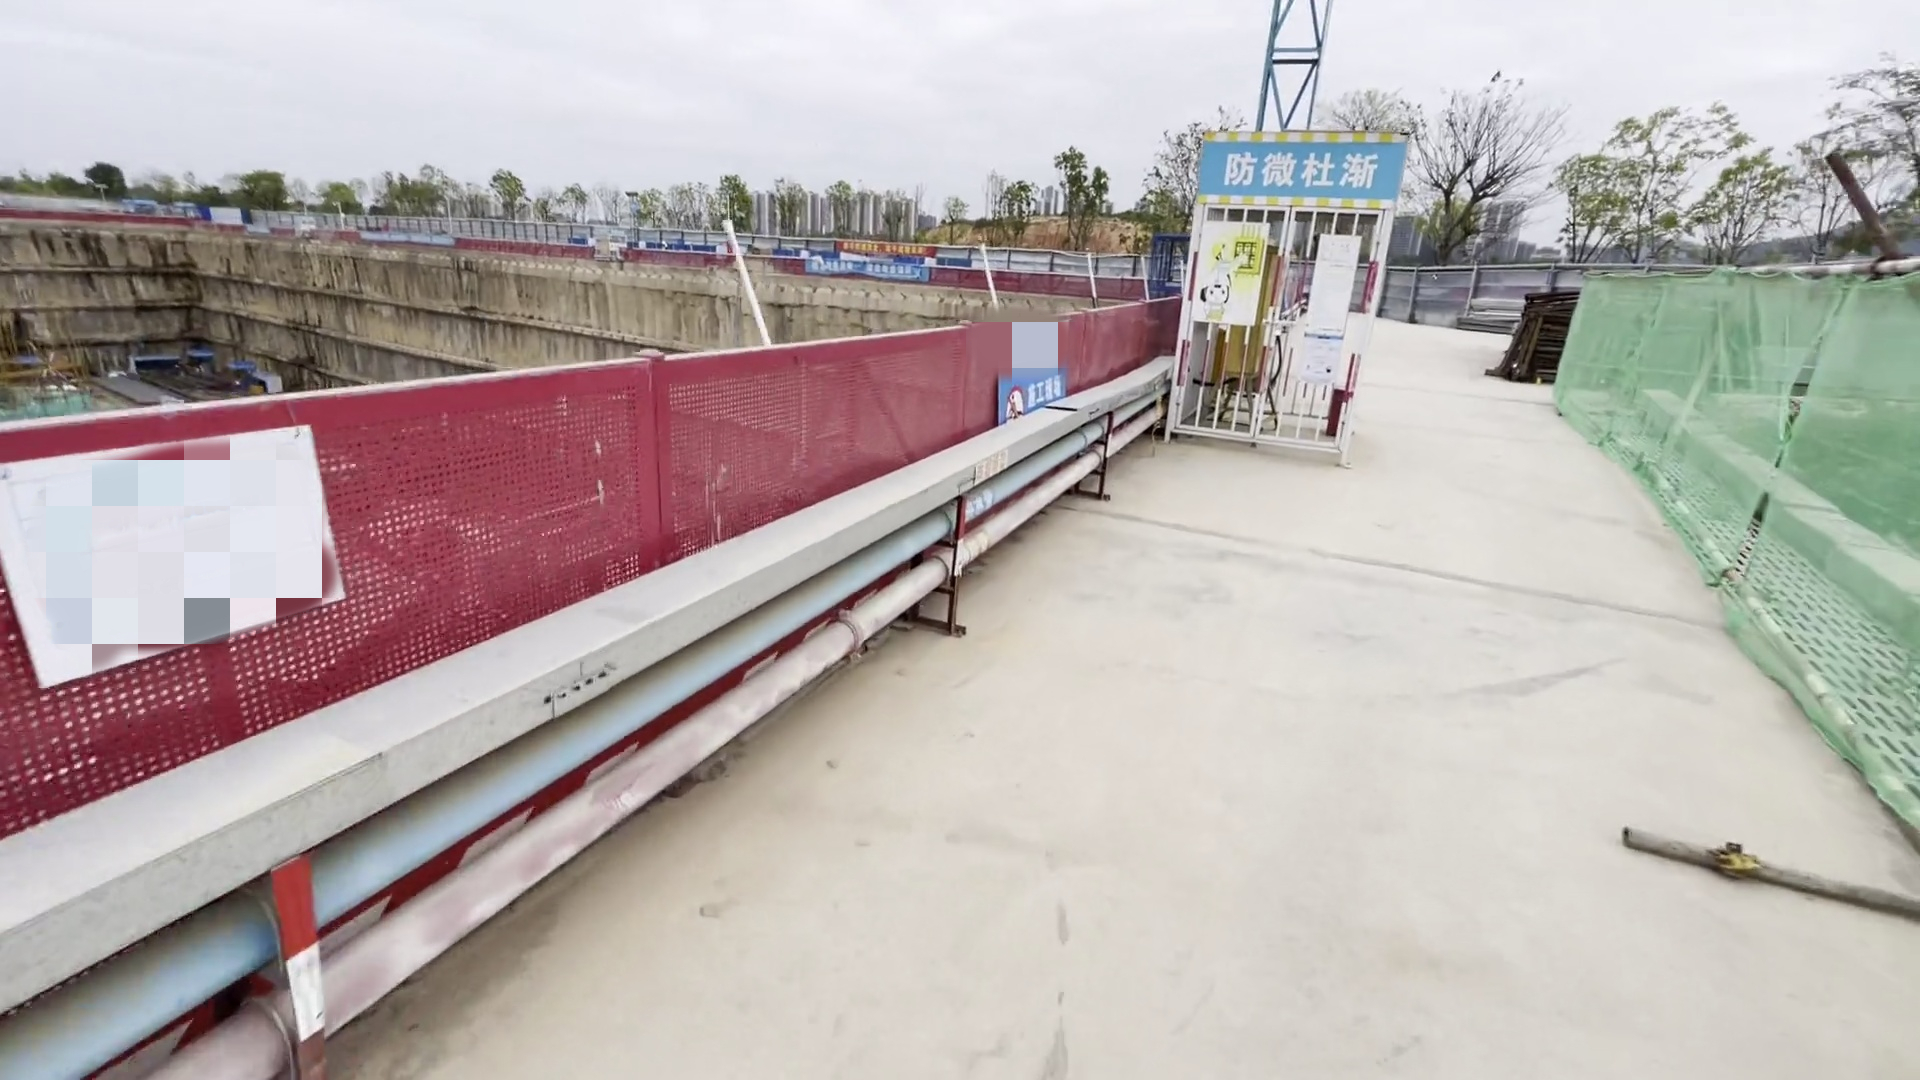fence: (1, 306, 1174, 841)
slogan: (1229, 142, 1375, 193), (829, 236, 924, 284), (1006, 378, 1083, 409)
